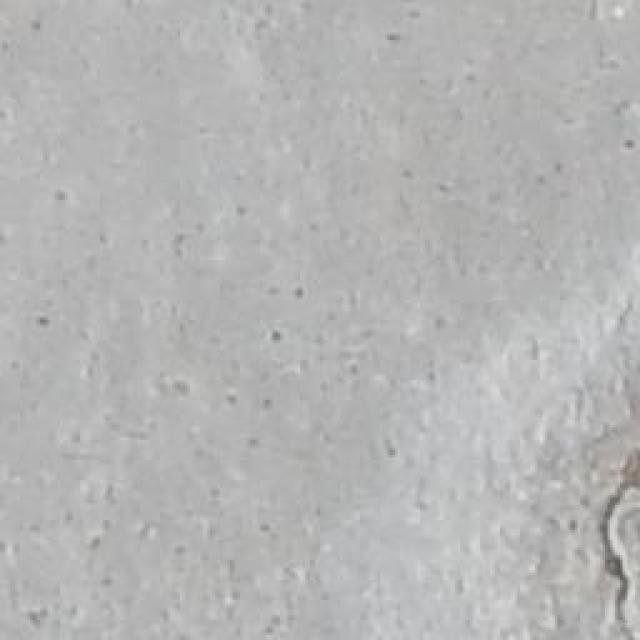concrete-crack: (593, 447, 640, 640)
